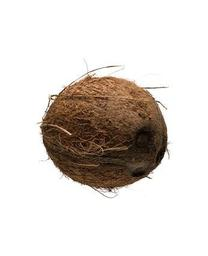coconut: (40, 73, 168, 193)
